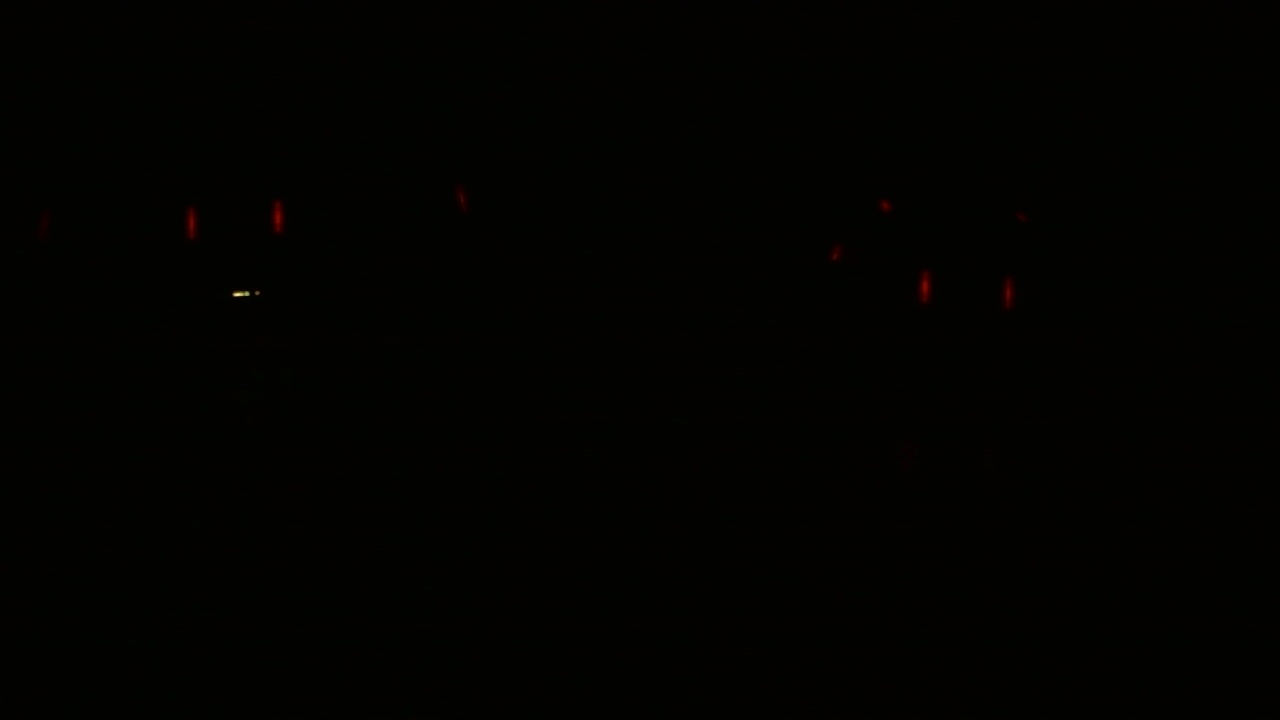pair1: (914, 267, 1020, 312), (182, 197, 286, 240)
